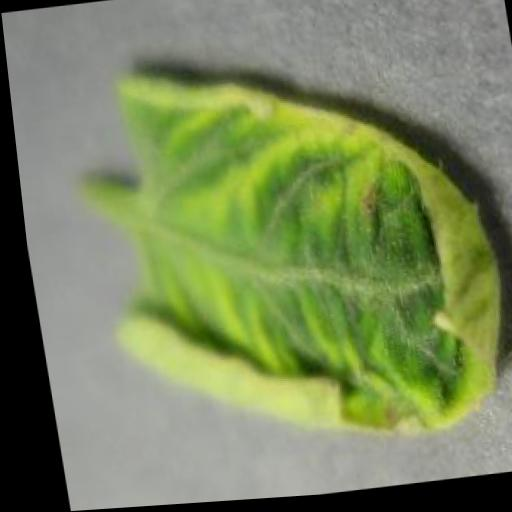Yellow Leaf Curl Virus: (69, 39, 512, 473)
